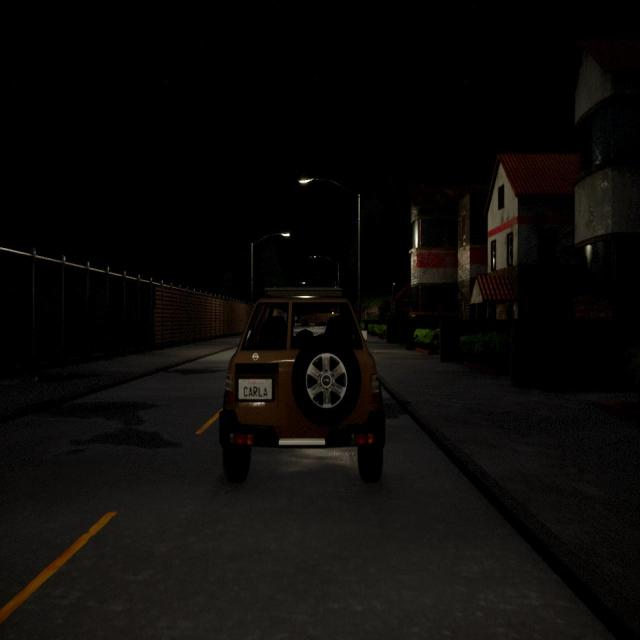Vehicle: (220, 288, 386, 482), (295, 320, 308, 327)
traffic_light: (332, 310, 334, 316)
